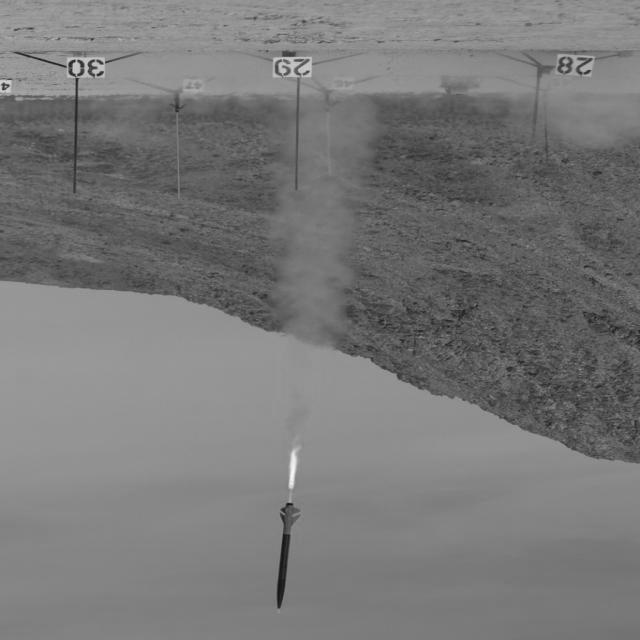missile: (276, 503, 302, 610)
